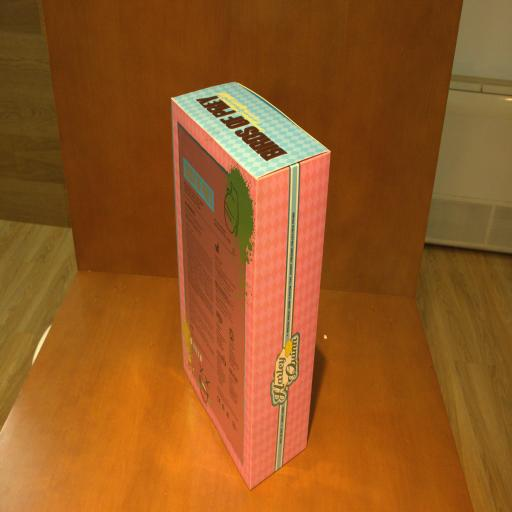Harley: (170, 81, 331, 490)
